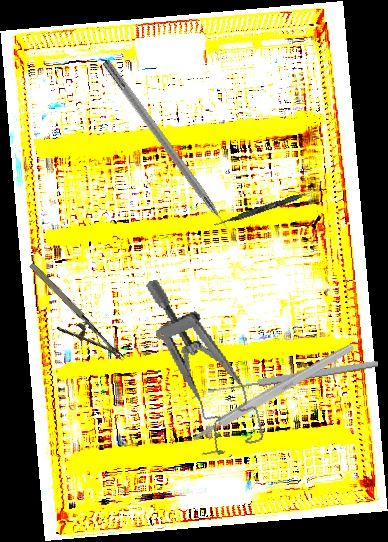Hook Surgical: (100, 58, 241, 246)
Needle Holder: (13, 259, 126, 380)
Scalpel Handle: (190, 341, 356, 444)
Spatula Surgical: (213, 183, 327, 230)
Speculum: (143, 263, 266, 463)
Surgical Spoon: (207, 358, 379, 396)
